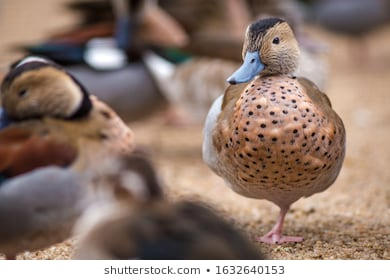duck: (192, 15, 361, 256)
